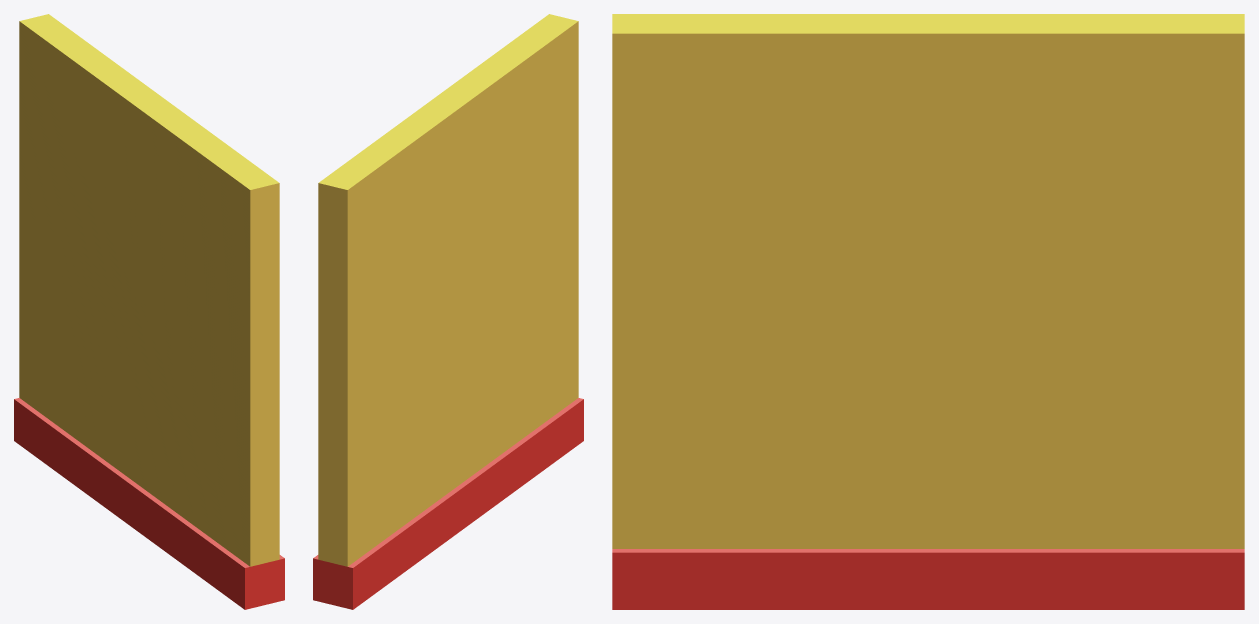
The model's file is Wall.fbx.
3 views of the same model, side by side, from view 1: azimuth 30°, elevation 25°; view 2: azimuth 150°, elevation 25°; view 3: azimuth 270°, elevation 25° (orthographic). The views are drawn at different scales.
Visible parts, largest first — view 1: Wall; view 2: Wall; view 3: Wall.
Boxes of the visible parts, <box> form: Wall: <box>14,14,284,609</box>; Wall: <box>313,14,583,609</box>; Wall: <box>612,14,1244,609</box>.
Bounding box in the file's own units: 0.3 × 3 × 3.
